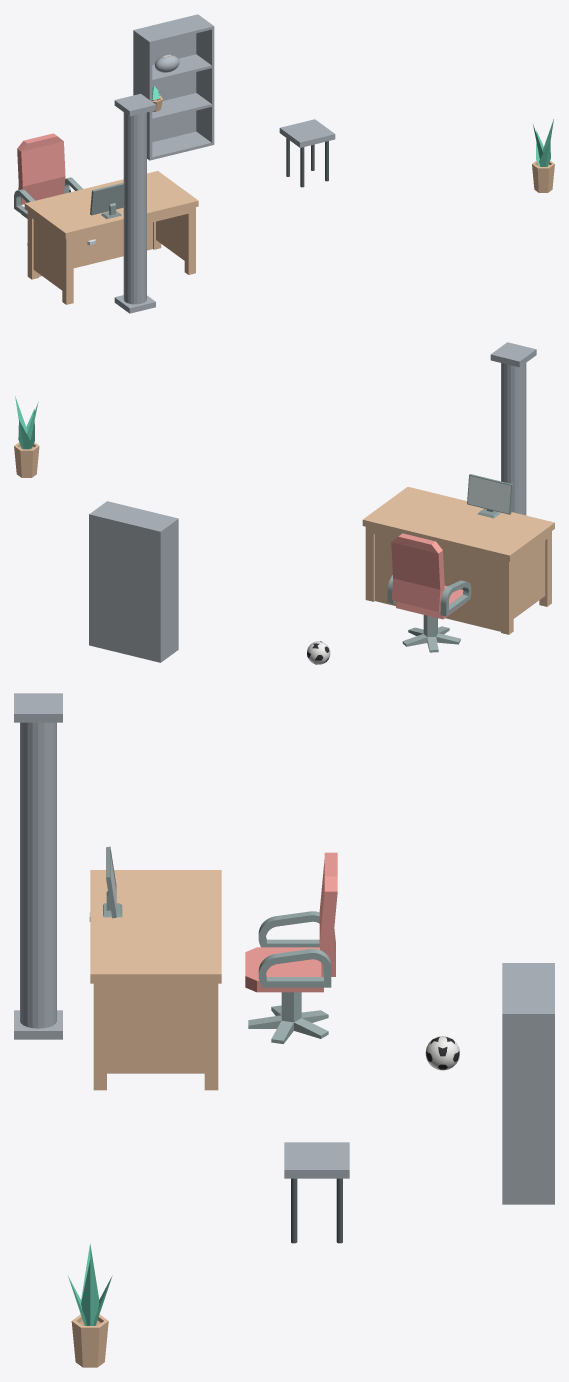
3 views of the same model, one above another, from view 1: azimuth 30°, elevation 25°; view 2: azimuth 150°, elevation 25°; view 3: azimuth 270°, elevation 25° (orthographic). The views are drawn at different scales.
Parts seen in each view (by area): view 1: desk_blue__desk(Clone), column_cyan__column_cyan shaft, deskchair_black__chair, shelf_orange__shelf_orange back, shelf_orange__shelf_orange side_r, shelf_orange__shelf_orange side_l, shelf_orange__shelf_orange board3, stool_purple__stool_purple seat, shelf_orange__shelf_orange board0, monitor_gray__computerScreen(Clone), shelf_orange__shelf_orange board1, shelf_orange__shelf_orange board2 (+4 smaller); view 2: desk_blue__desk(Clone), shelf_orange__shelf_orange back, deskchair_black__chair, column_cyan__column_cyan shaft, shelf_orange__shelf_orange side_l, monitor_gray__computerScreen(Clone), shelf_orange__shelf_orange board3, deskchair_black__chairDesk(Clone), column_cyan__column_cyan capital, plant_pink__pottedPlant(Clone), plant_pink__plant, soccer_white__soccer_white (+1 smaller); view 3: desk_blue__desk(Clone), column_cyan__column_cyan shaft, shelf_orange__shelf_orange side_r, deskchair_black__chair, stool_purple__stool_purple seat, shelf_orange__shelf_orange board3, deskchair_black__chairDesk(Clone), plant_pink__pottedPlant(Clone), column_cyan__column_cyan capital, plant_pink__plant, soccer_white__soccer_white, column_cyan__column_cyan plinth.
Boxes of the visible parts, left/top/right/bottom form: desk_blue__desk(Clone): left=24, top=171, right=198, bottom=304; column_cyan__column_cyan shaft: left=123, top=112, right=146, bottom=304; deskchair_black__chair: left=14, top=133, right=82, bottom=218; shelf_orange__shelf_orange back: left=136, top=15, right=196, bottom=142; shelf_orange__shelf_orange side_r: left=196, top=14, right=214, bottom=145; shelf_orange__shelf_orange side_l: left=133, top=29, right=152, bottom=160; shelf_orange__shelf_orange board3: left=137, top=15, right=211, bottom=43; stool_purple__stool_purple seat: left=279, top=119, right=335, bottom=147; shelf_orange__shelf_orange board0: left=152, top=131, right=211, bottom=159; monitor_gray__computerScreen(Clone): left=90, top=182, right=123, bottom=218; shelf_orange__shelf_orange board1: left=152, top=93, right=211, bottom=121; shelf_orange__shelf_orange board2: left=152, top=54, right=211, bottom=82; desk_blue__desk(Clone): left=362, top=487, right=554, bottom=634; shelf_orange__shelf_orange back: left=92, top=514, right=158, bottom=661; deskchair_black__chair: left=387, top=533, right=471, bottom=619; column_cyan__column_cyan shaft: left=501, top=363, right=526, bottom=515; shelf_orange__shelf_orange side_l: left=158, top=518, right=178, bottom=662; monitor_gray__computerScreen(Clone): left=467, top=474, right=513, bottom=518; shelf_orange__shelf_orange board3: left=93, top=502, right=175, bottom=530; deskchair_black__chairDesk(Clone): left=402, top=615, right=460, bottom=652; column_cyan__column_cyan capital: left=490, top=342, right=536, bottom=367; plant_pink__pottedPlant(Clone): left=14, top=442, right=39, bottom=477; plant_pink__plant: left=15, top=396, right=38, bottom=449; soccer_white__soccer_white: left=307, top=641, right=330, bottom=664; desk_blue__desk(Clone): left=90, top=870, right=221, bottom=1090; column_cyan__column_cyan shaft: left=20, top=722, right=56, bottom=1028; shelf_orange__shelf_orange side_r: left=502, top=1012, right=554, bottom=1204; deskchair_black__chair: left=245, top=852, right=337, bottom=992; stool_purple__stool_purple seat: left=284, top=1142, right=349, bottom=1178; shelf_orange__shelf_orange board3: left=502, top=965, right=551, bottom=1011; deskchair_black__chairDesk(Clone): left=248, top=992, right=328, bottom=1043; plant_pink__pottedPlant(Clone): left=71, top=1314, right=108, bottom=1367; column_cyan__column_cyan capital: left=14, top=693, right=62, bottom=722; plant_pink__plant: left=68, top=1243, right=112, bottom=1325; soccer_white__soccer_white: left=425, top=1036, right=459, bottom=1070; column_cyan__column_cyan plinth: left=14, top=1010, right=62, bottom=1039.
Size of the model in its own units: 5.77 by 2.28 by 3.44.
